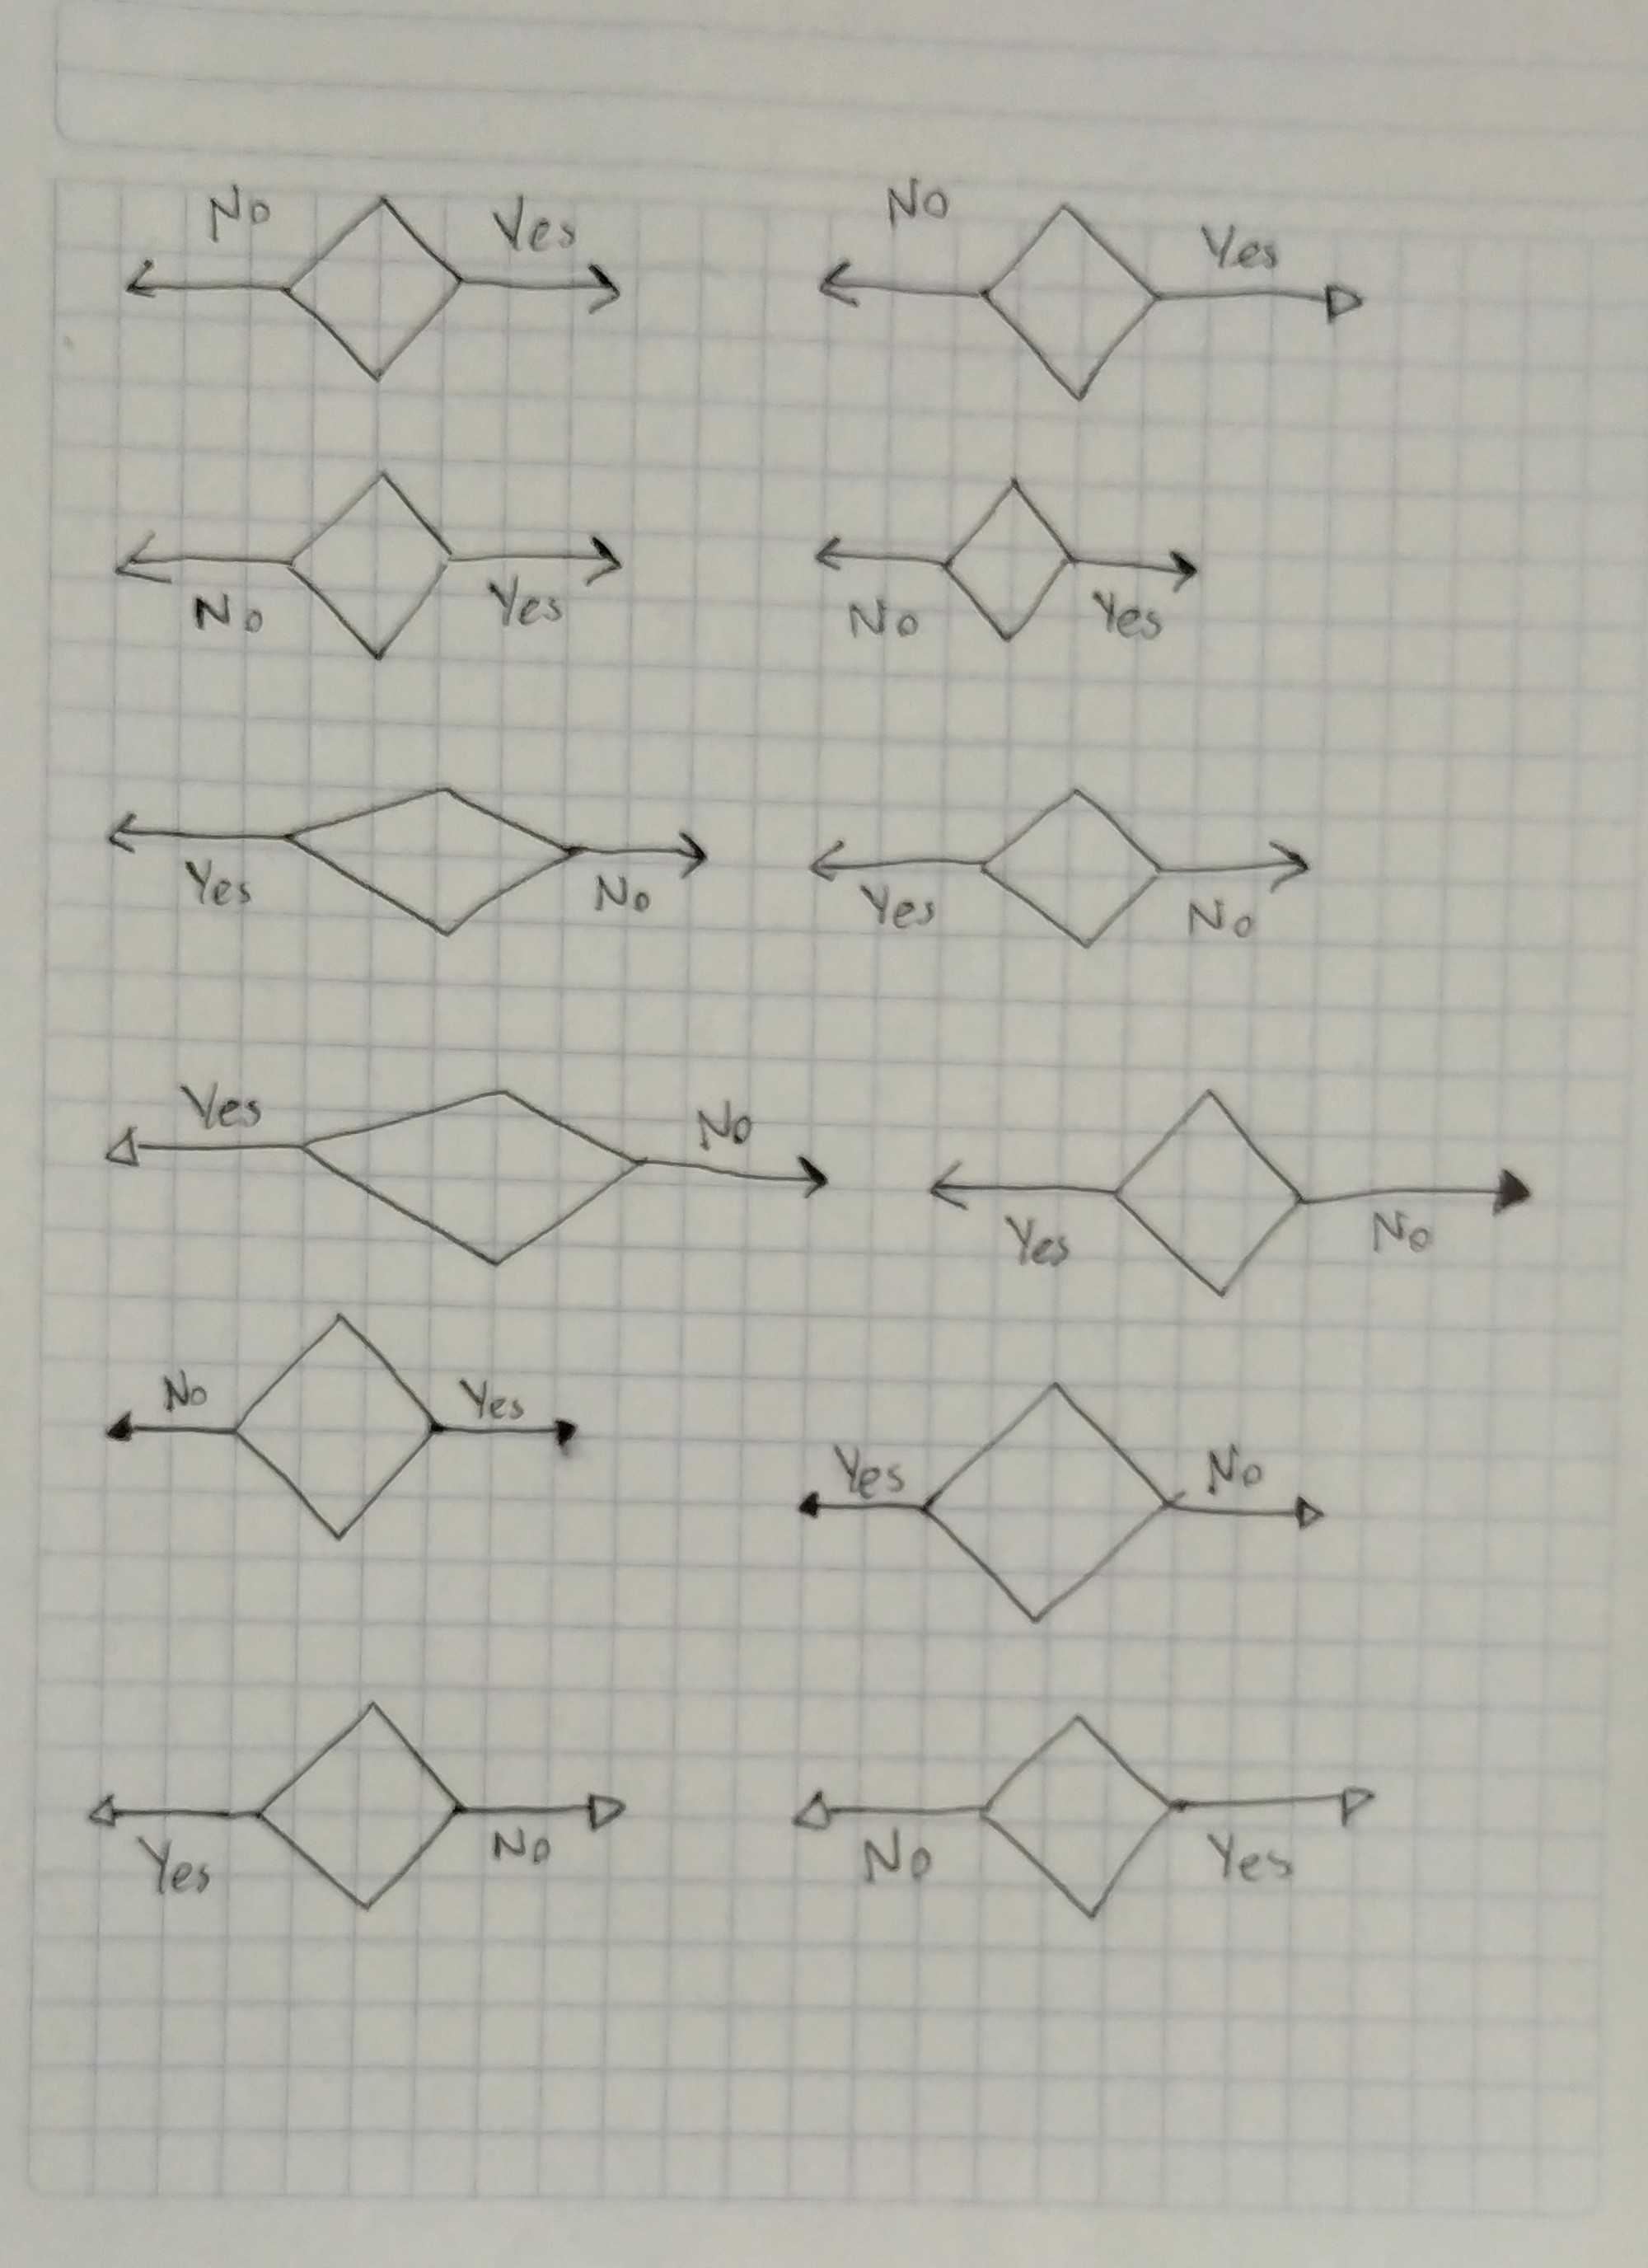arrow_line_left: (916, 1146, 1123, 1220), (95, 1115, 305, 1183), (808, 243, 991, 319), (107, 526, 299, 599), (114, 250, 287, 320), (785, 1780, 993, 1838), (102, 799, 296, 861), (801, 828, 986, 887), (79, 1789, 266, 1838), (787, 1474, 926, 1537), (808, 526, 953, 586), (93, 1400, 239, 1458)
arrow_line_right: (1291, 1155, 1541, 1231), (1157, 261, 1372, 335), (641, 1134, 836, 1210), (1167, 1775, 1380, 1833), (458, 255, 639, 320), (447, 525, 629, 588), (1166, 1474, 1333, 1541), (456, 1775, 630, 1838), (1151, 833, 1321, 898), (435, 1395, 583, 1465), (570, 819, 711, 884), (1067, 539, 1206, 593)
decision: (299, 1072, 650, 1275), (919, 1372, 1185, 1632), (232, 1301, 444, 1548), (283, 773, 579, 944), (252, 1692, 470, 1921), (975, 1705, 1176, 1937), (1115, 1076, 1312, 1310), (984, 190, 1164, 414), (282, 188, 468, 394), (285, 465, 458, 671), (981, 778, 1167, 951), (945, 463, 1078, 655)
